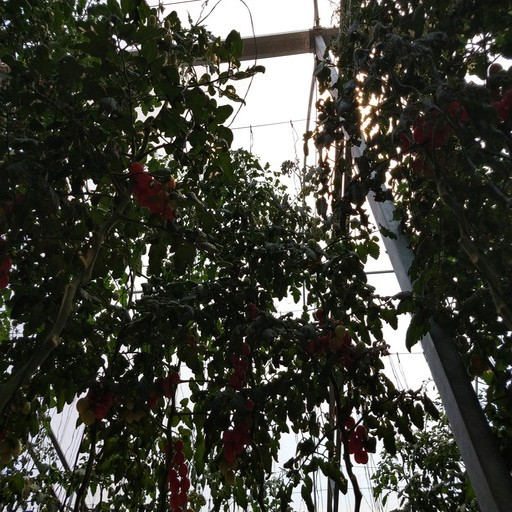mixed tomato bunch: (124, 372, 181, 423), (304, 317, 351, 357), (76, 384, 115, 426), (226, 343, 251, 390)
red tomato bunch: (397, 100, 469, 173), (126, 160, 176, 221), (162, 439, 191, 510), (335, 412, 372, 465), (491, 65, 512, 126), (222, 426, 254, 464)
